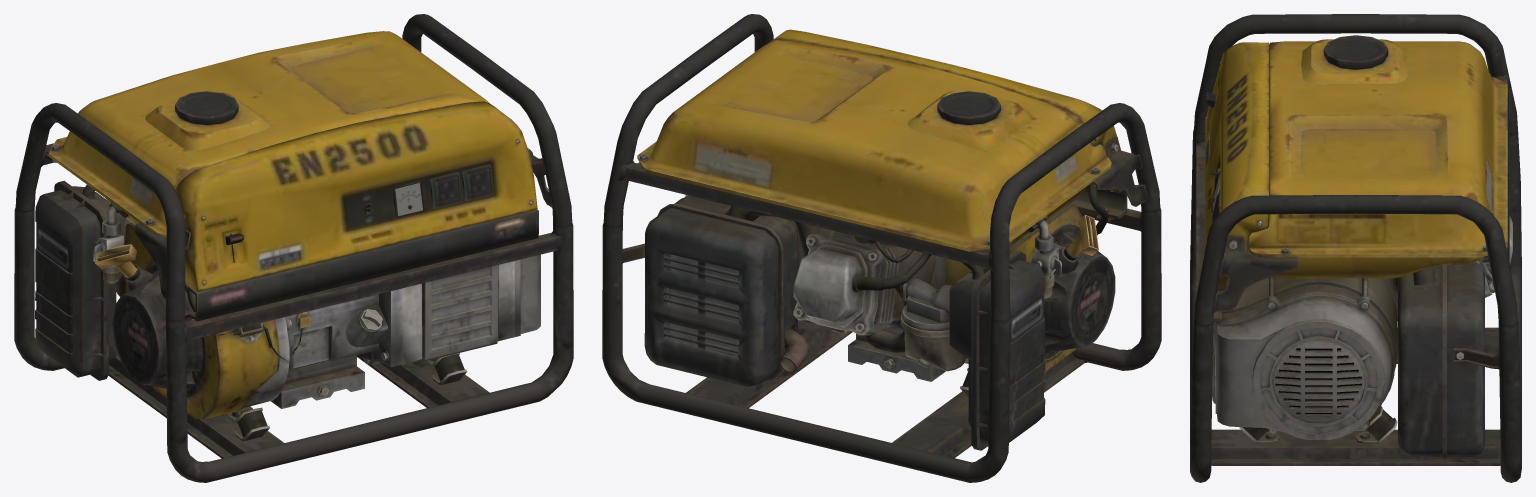
File: portable_generator.glb
The picture shows the model from 3 angles, left to right: view 1: azimuth 30°, elevation 25°; view 2: azimuth 150°, elevation 25°; view 3: azimuth 270°, elevation 25°; orthographic projection.
Parts seen in each view (by area): view 1: portable_generator; view 2: portable_generator; view 3: portable_generator.
Part boxes in pixels (box(x1,y1,x2,y2)): portable_generator: box(14, 14, 573, 482); portable_generator: box(602, 14, 1161, 482); portable_generator: box(1190, 14, 1521, 482).
Bounding box in the file's own units: 0.8169 × 0.5752 × 0.564.
2 materials, 2 textured.
